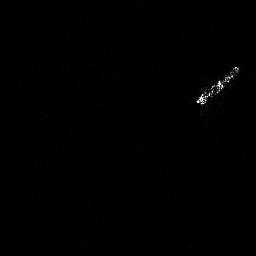ship: (193, 63, 242, 106)
